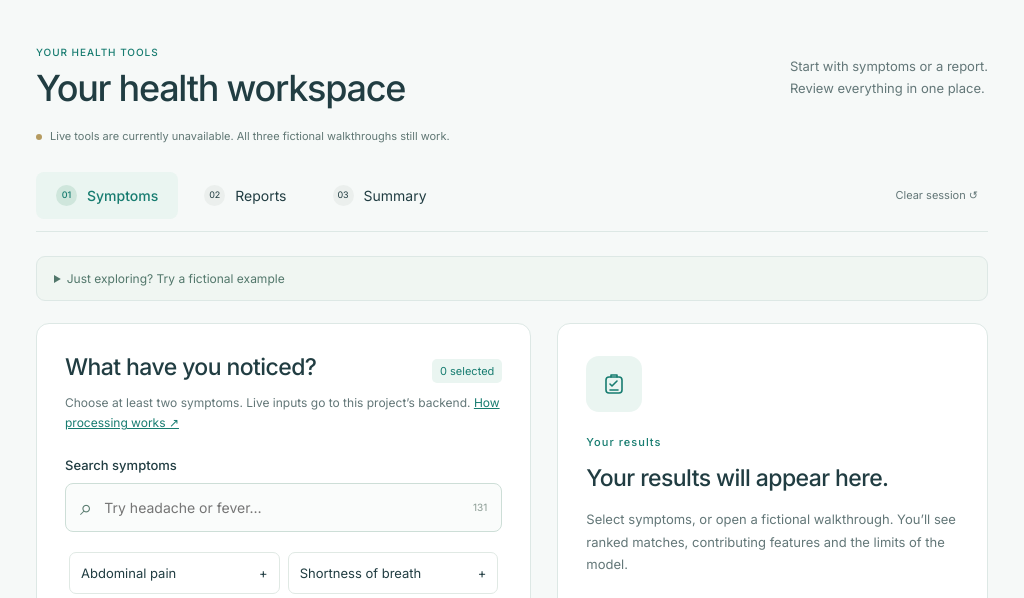
Test: health workspace › runs every fictional walkthrough without the backend
Click the heading "Just exploring? Try a fictional example". click: (176, 278)
box: x1=67 y1=271 x2=285 y2=286
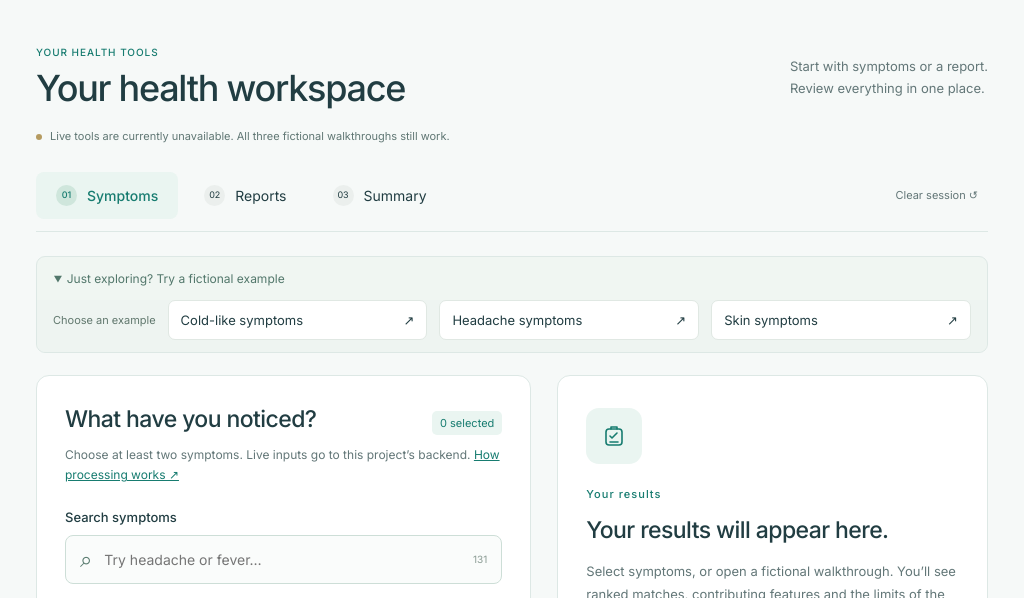
Click the button "Cold-like symptoms ↗". click: (298, 320)
box: x1=168 y1=300 x2=427 y2=340
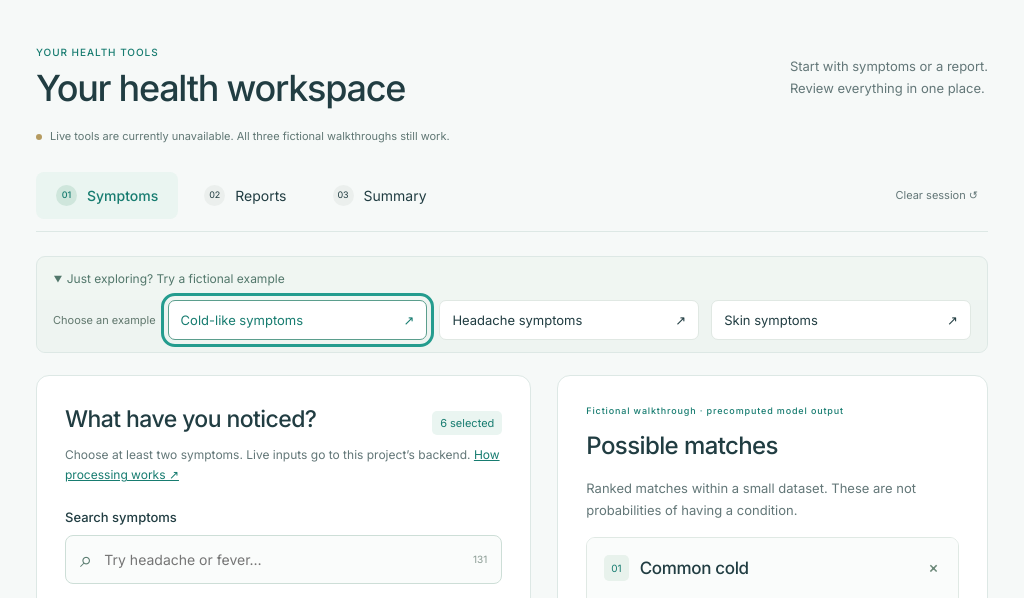
Now the text "Fictional walkthrough · precomputed model output" is shown, box x1=586 y1=405 x2=844 y2=416
Now the text "Common cold" is shown, box x1=640 y1=558 x2=749 y2=578
Click the button "Headache symptoms ↗". click: (569, 320)
box: x1=439 y1=300 x2=699 y2=340
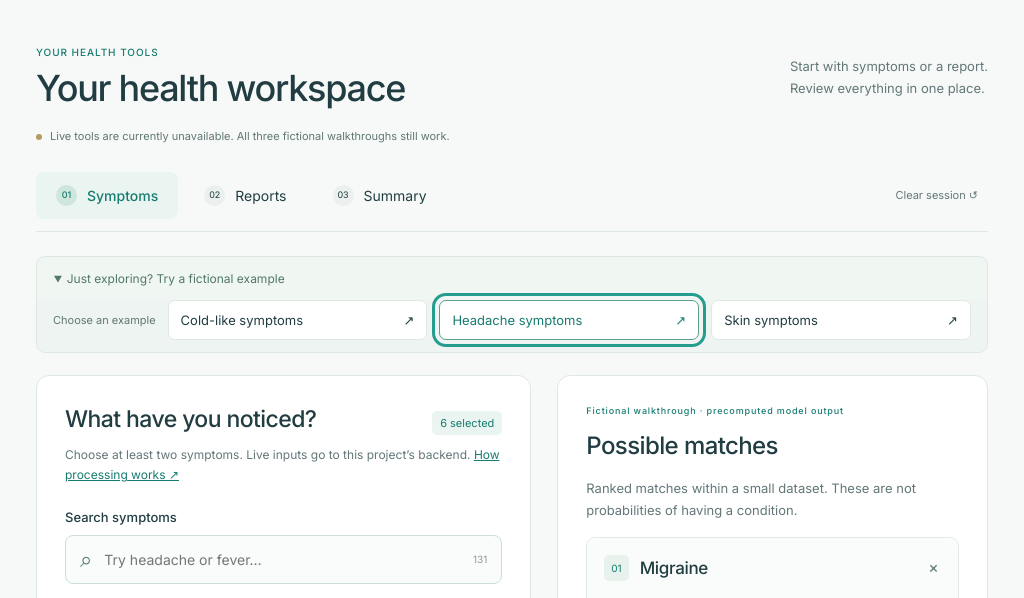
Now the text "Fictional walkthrough · precomputed model output" is shown, box x1=586 y1=405 x2=844 y2=416
Now the text "Migraine" is shown, box x1=640 y1=558 x2=708 y2=578
Click the button "Skin symptoms ↗". click: (841, 320)
box: x1=711 y1=300 x2=971 y2=340
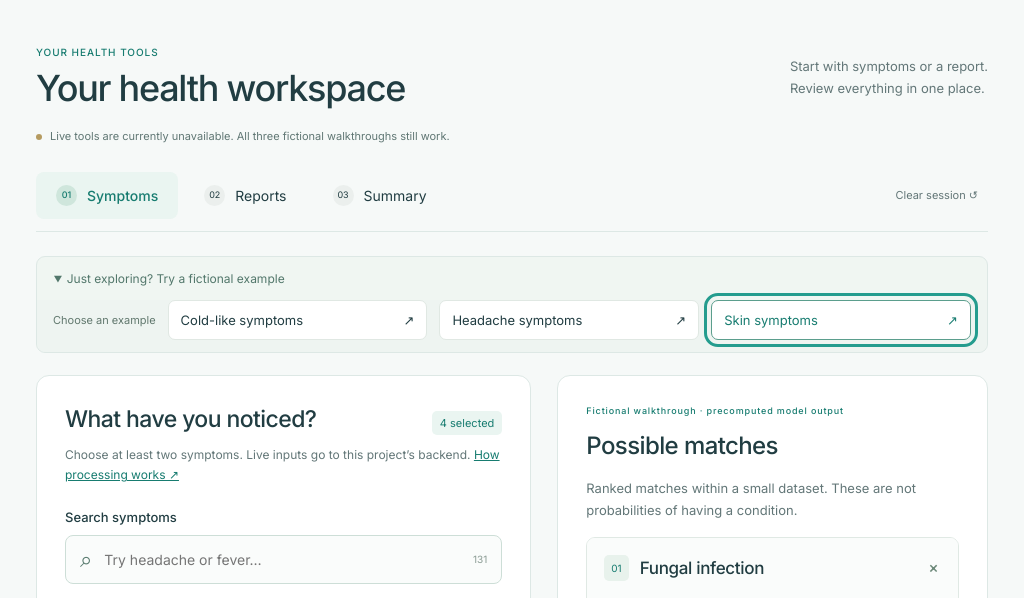
Now the text "Fictional walkthrough · precomputed model output" is shown, box x1=586 y1=405 x2=844 y2=416
Now the text "Fungal infection" is shown, box x1=640 y1=558 x2=764 y2=578
